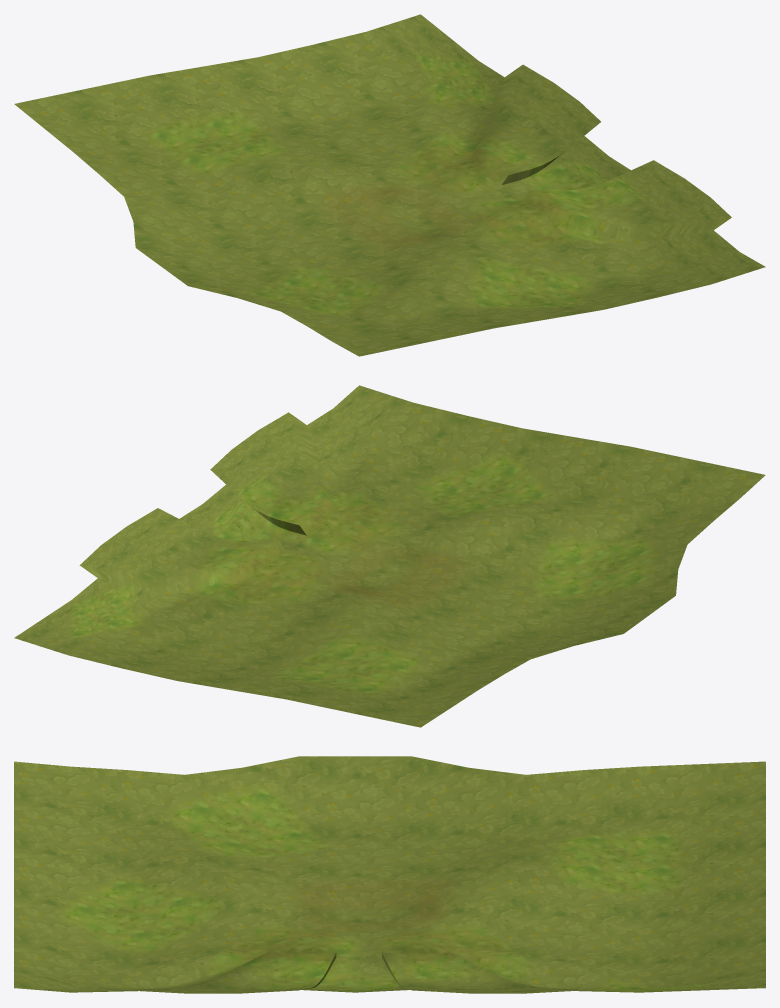
Rendered from Ground.FBX.
The picture shows the model from 3 angles, top to bottom: view 1: azimuth 30°, elevation 25°; view 2: azimuth 150°, elevation 25°; view 3: azimuth 270°, elevation 25°; orthographic projection. The views are drawn at different scales.
Visible parts, largest first — view 1: Ground; view 2: Ground; view 3: Ground.
Boxes of the visible parts, <box> form: Ground: <box>14,14,765,356</box>; Ground: <box>14,385,765,727</box>; Ground: <box>14,756,765,993</box>.
Bounding box in the file's own units: 20564 × 1569 × 26128.
Materials: 1 (1 with a texture image).
